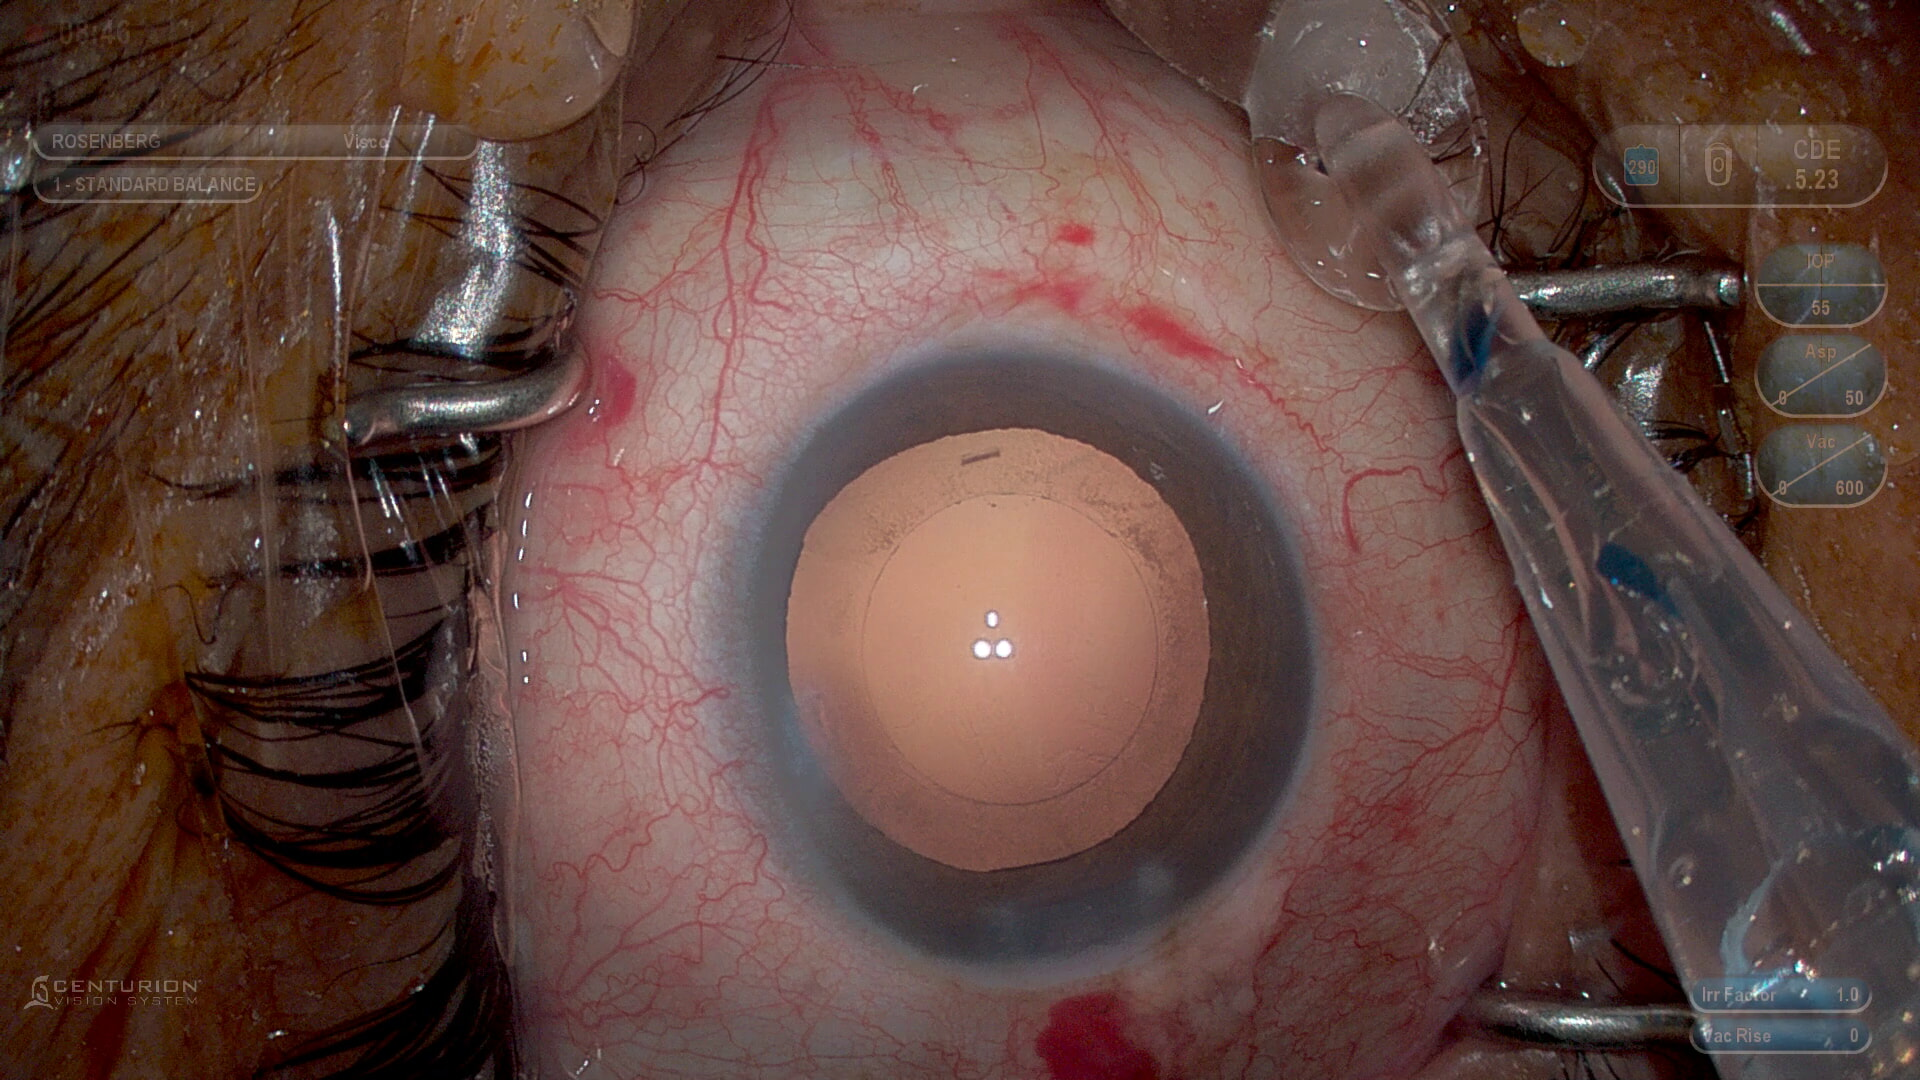iris: (744, 356, 1313, 961)
pupil: (786, 428, 1220, 870)
